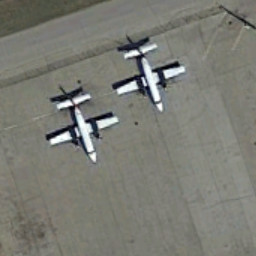Airplane: (30, 89, 122, 171), (109, 35, 193, 115)
